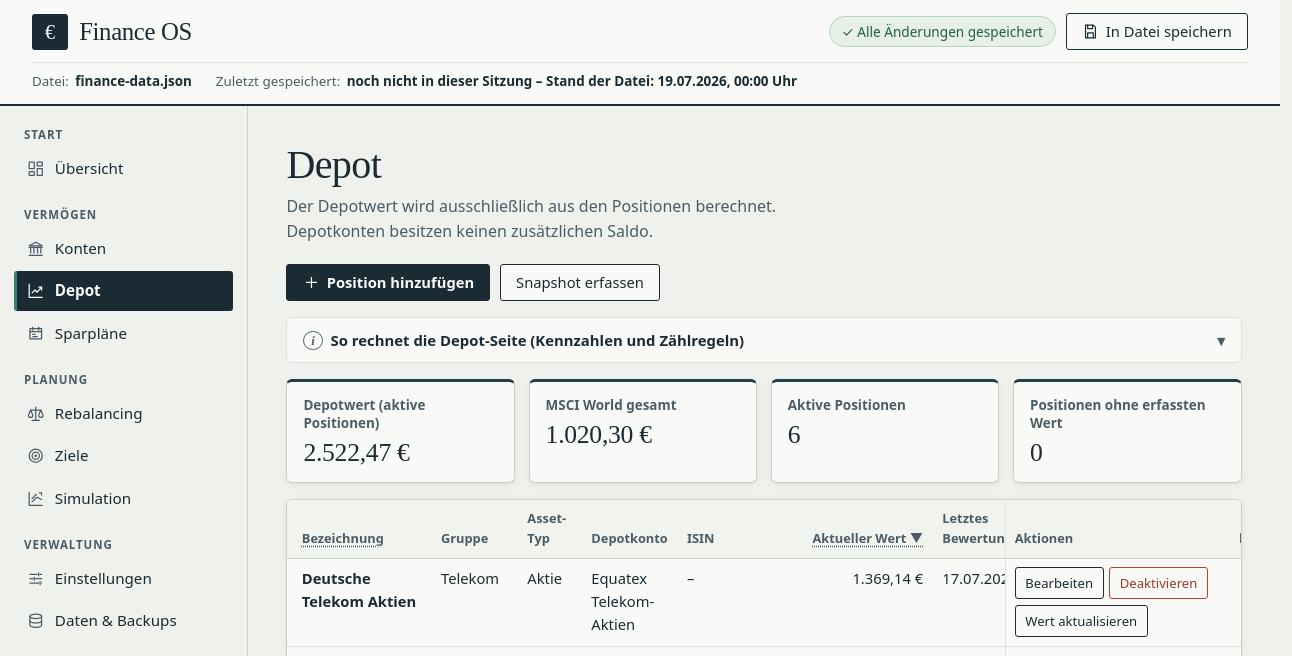
Test case: DepotPage – Hinzufügen › warnt bei ISIN-Dublette im selben Depotkonto (kein Blocker)
Step 1. Click the button "Position hinzufügen" → (388, 283), box [286,264,490,301]
(page scrolled)
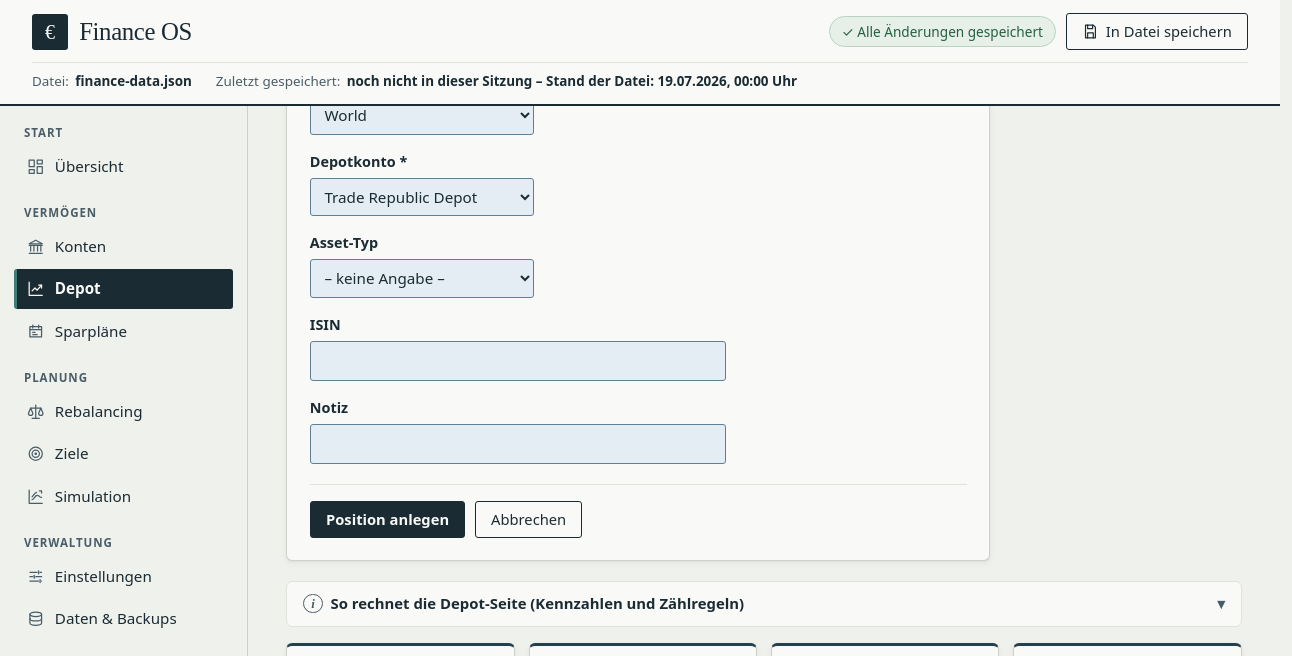
Step 2. Type " ie00bfy0gt14 " into the field labelled "ISIN" → (518, 361), box [310,341,726,380]
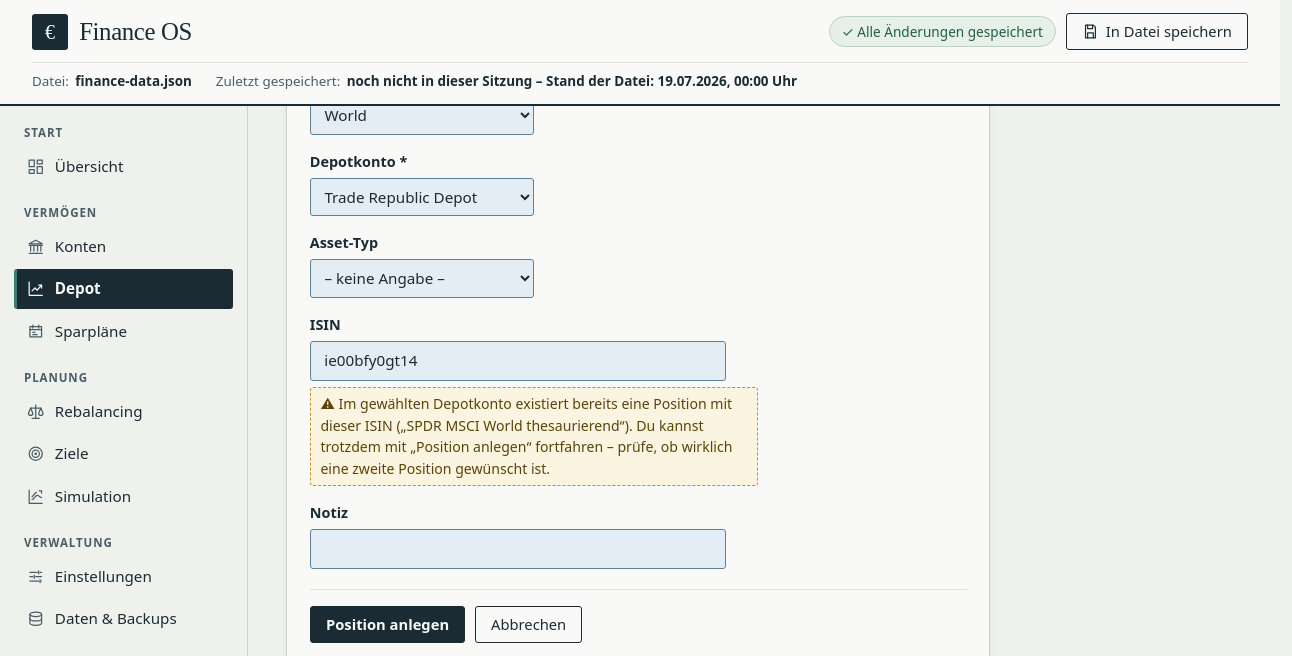
Expected: the text "SPDR MSCI World thesaurierend" is shown, [320,394,732,478]
